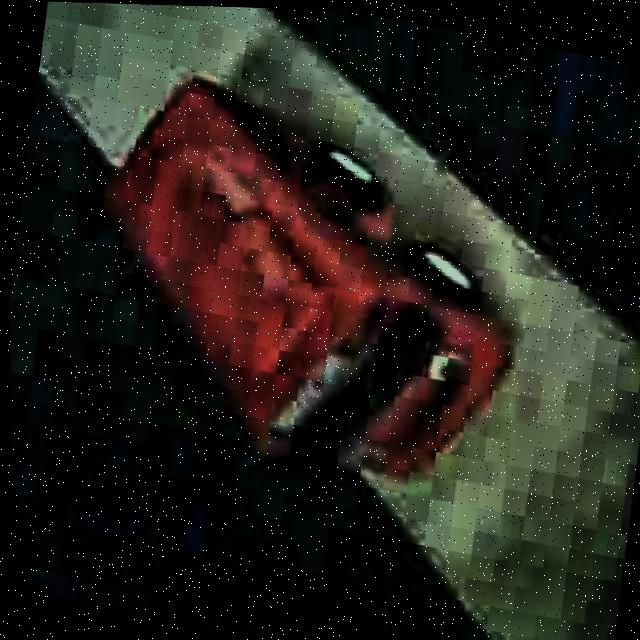bus: (58, 60, 554, 501)
